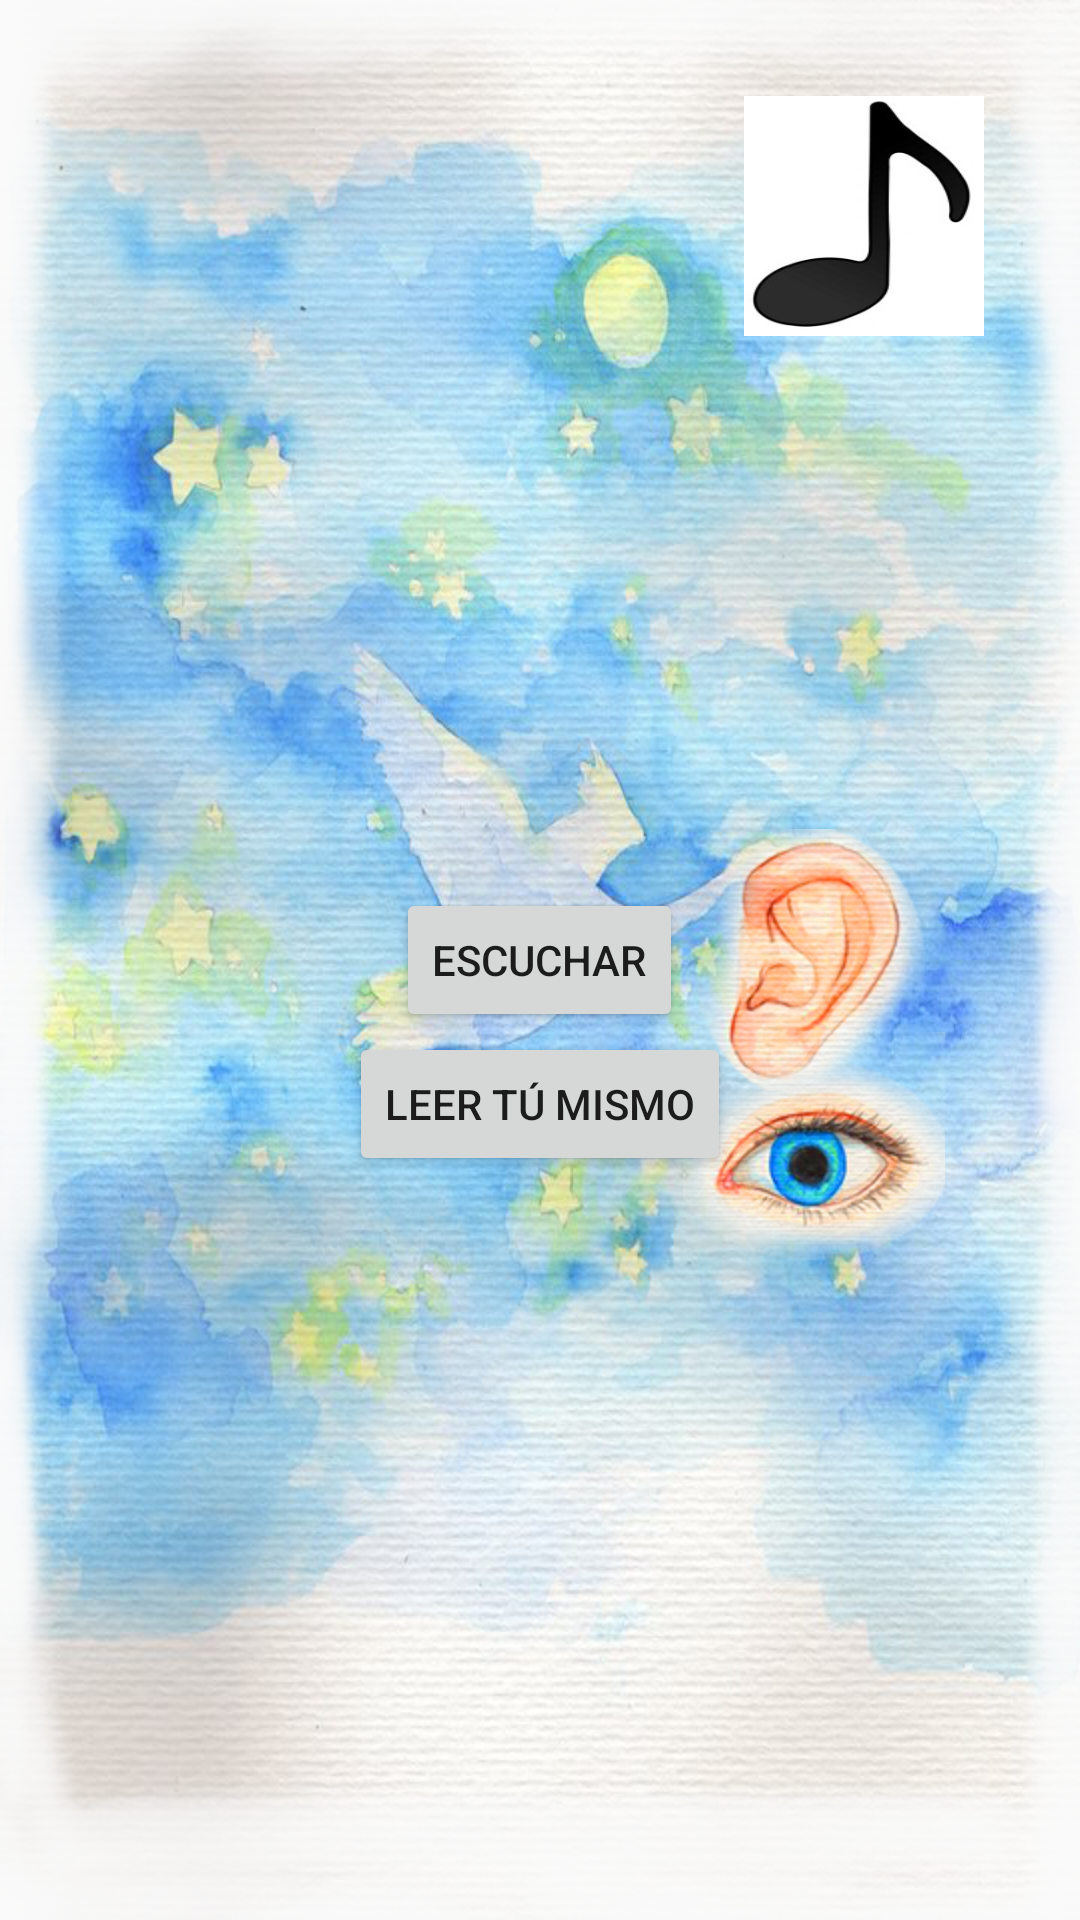

Point at icon controls on the screen. Image size 1080*1920, points as [x,y].
ojo: [814,1163]
oreja: [814,960]
